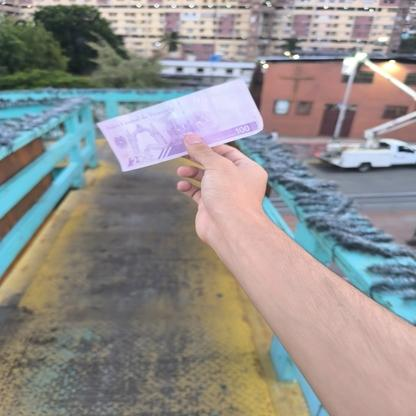one_hundred-back-vef: (95, 76, 264, 172)
